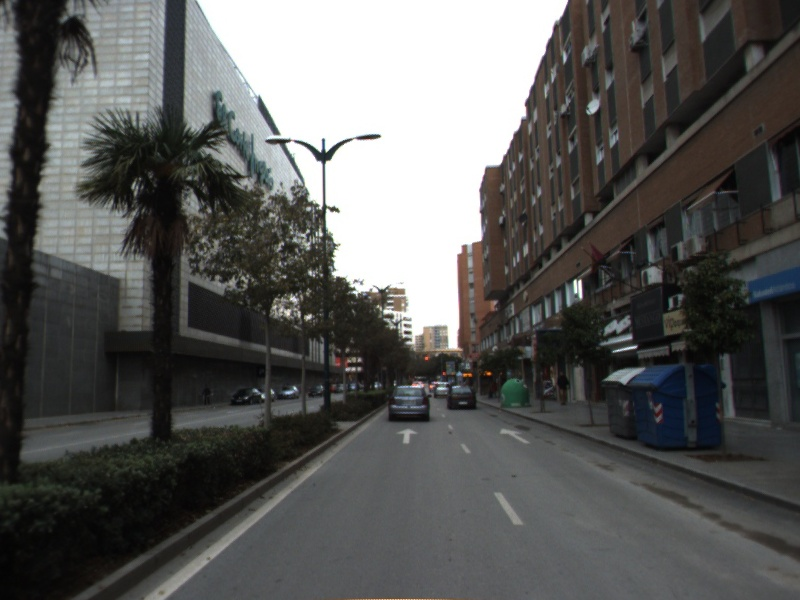STRAIGHT: (498, 426, 532, 445), (395, 426, 421, 445)
